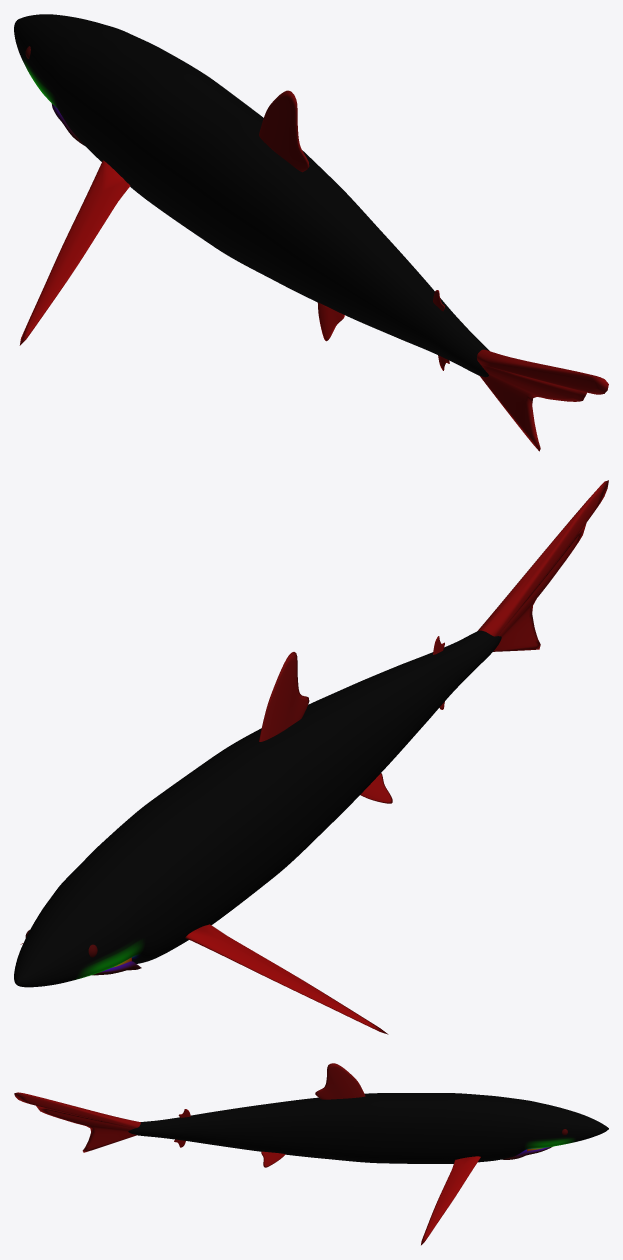
File: blue_shark.glb
3 views of the same model, one above another, from view 1: azimuth 30°, elevation 25°; view 2: azimuth 150°, elevation 25°; view 3: azimuth 270°, elevation 25° (orthographic). The views are drawn at different scales.
Visible parts, largest first — view 1: blue_shark; view 2: blue_shark; view 3: blue_shark.
Boxes of the visible parts, x1=… form: blue_shark: x1=14, y1=14, x2=608, y2=451; blue_shark: x1=14, y1=480, x2=608, y2=1034; blue_shark: x1=14, y1=1063, x2=608, y2=1245.
Bounding box in the file's own units: 1.08 × 0.7639 × 3.
